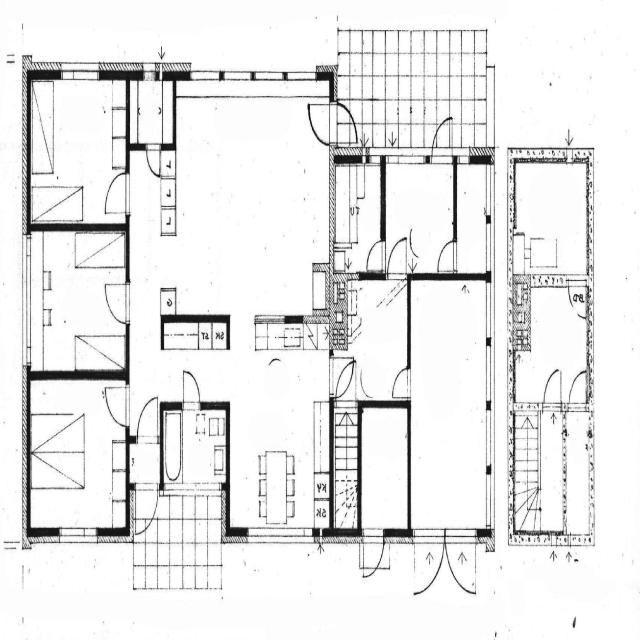door: (444, 526, 479, 596), (412, 530, 446, 595), (100, 165, 133, 219), (102, 378, 132, 429), (102, 276, 132, 327), (132, 482, 160, 536), (361, 526, 386, 578), (307, 97, 333, 146), (430, 114, 455, 164), (136, 393, 160, 443), (386, 233, 410, 279), (179, 365, 203, 411), (332, 354, 356, 399), (542, 363, 564, 408), (567, 367, 589, 408), (389, 363, 413, 400), (364, 235, 386, 273), (436, 236, 458, 272), (144, 139, 164, 178), (568, 278, 587, 318)
window: (456, 158, 492, 278), (20, 231, 34, 371), (246, 522, 303, 548), (58, 59, 102, 87), (57, 522, 100, 547), (482, 404, 496, 470), (482, 161, 497, 222), (483, 278, 496, 342), (483, 339, 495, 406), (188, 62, 222, 85), (285, 63, 318, 85), (484, 216, 494, 273), (140, 62, 161, 82), (454, 149, 471, 167)
zone: (163, 85, 327, 317), (233, 323, 330, 533), (411, 275, 489, 534), (28, 373, 128, 534), (30, 75, 128, 224), (28, 228, 128, 373), (515, 277, 591, 403), (512, 160, 590, 279), (384, 160, 456, 270), (350, 273, 409, 400), (360, 400, 409, 532), (333, 161, 381, 271), (163, 320, 229, 400), (557, 414, 595, 544), (172, 405, 229, 487), (454, 160, 490, 275), (127, 76, 175, 148)
